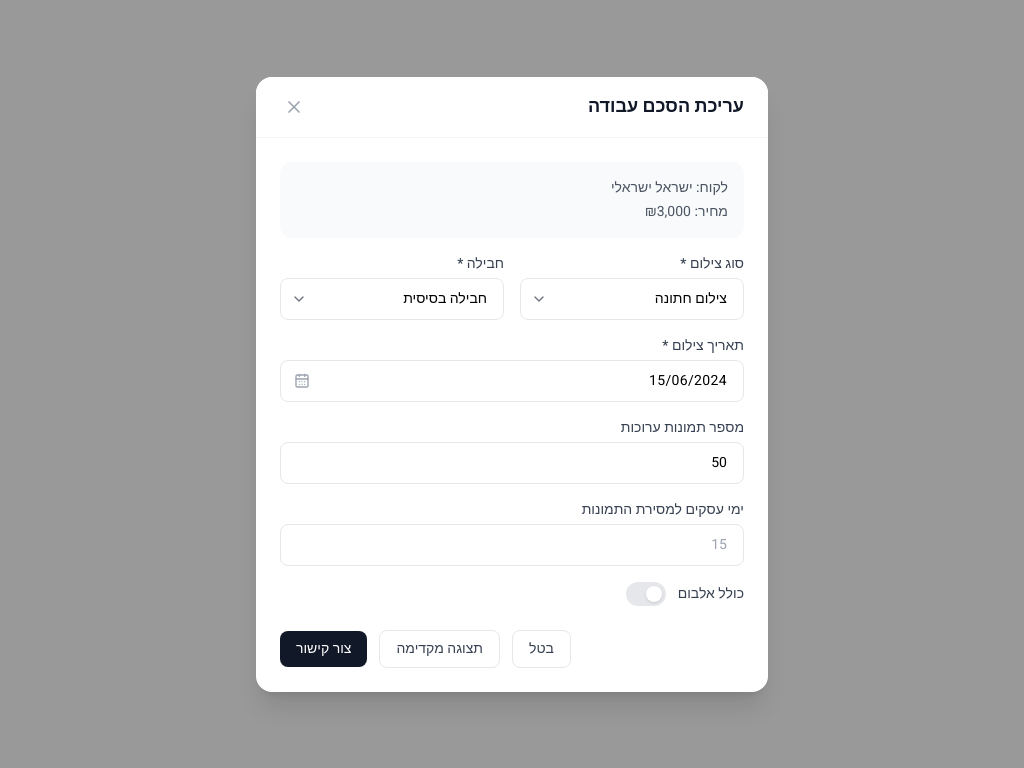
Test: AgreementEditorModal › changing the package in the editor applies the package photo count and album
Expected: the number field showing "50" is shown, [280,442,744,484]
Select "חבילה מורחבת" in the dropdown showing "חבילה בסיסית" below "חבילה *" at (392, 298), box [280,278,504,320]
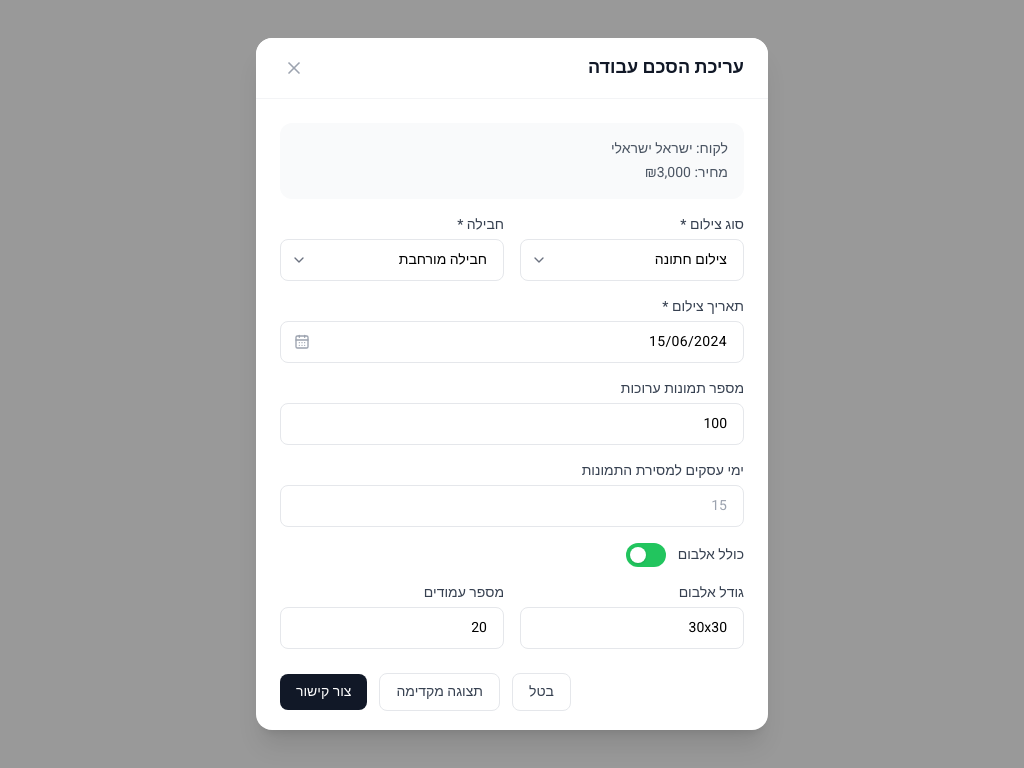
Result: the number field showing "100" below "מספר תמונות ערוכות" is shown at [280,403,744,445]
Result: the field showing "30x30" is shown at [520,607,744,649]
